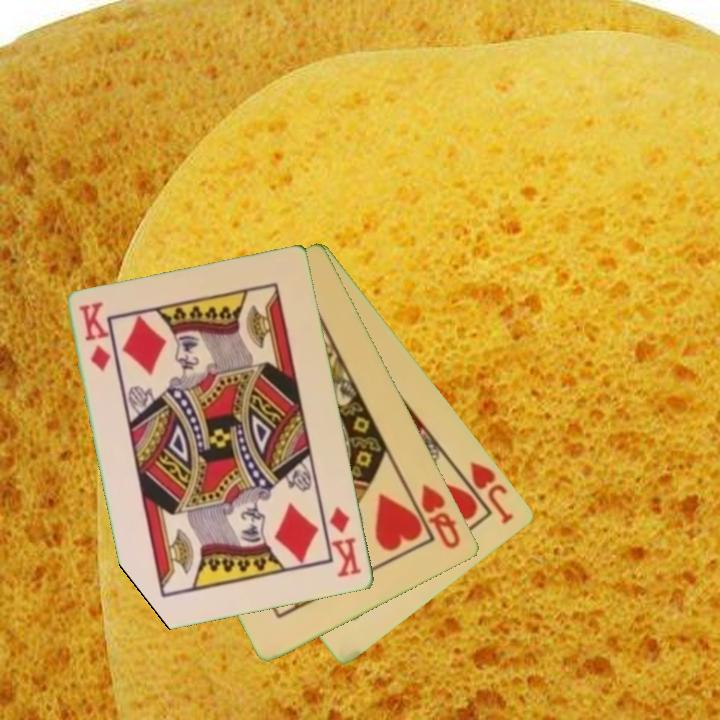Jh: (452, 458, 517, 527)
Kd: (326, 503, 365, 581), (76, 299, 114, 375)
Qh: (418, 480, 464, 552)
